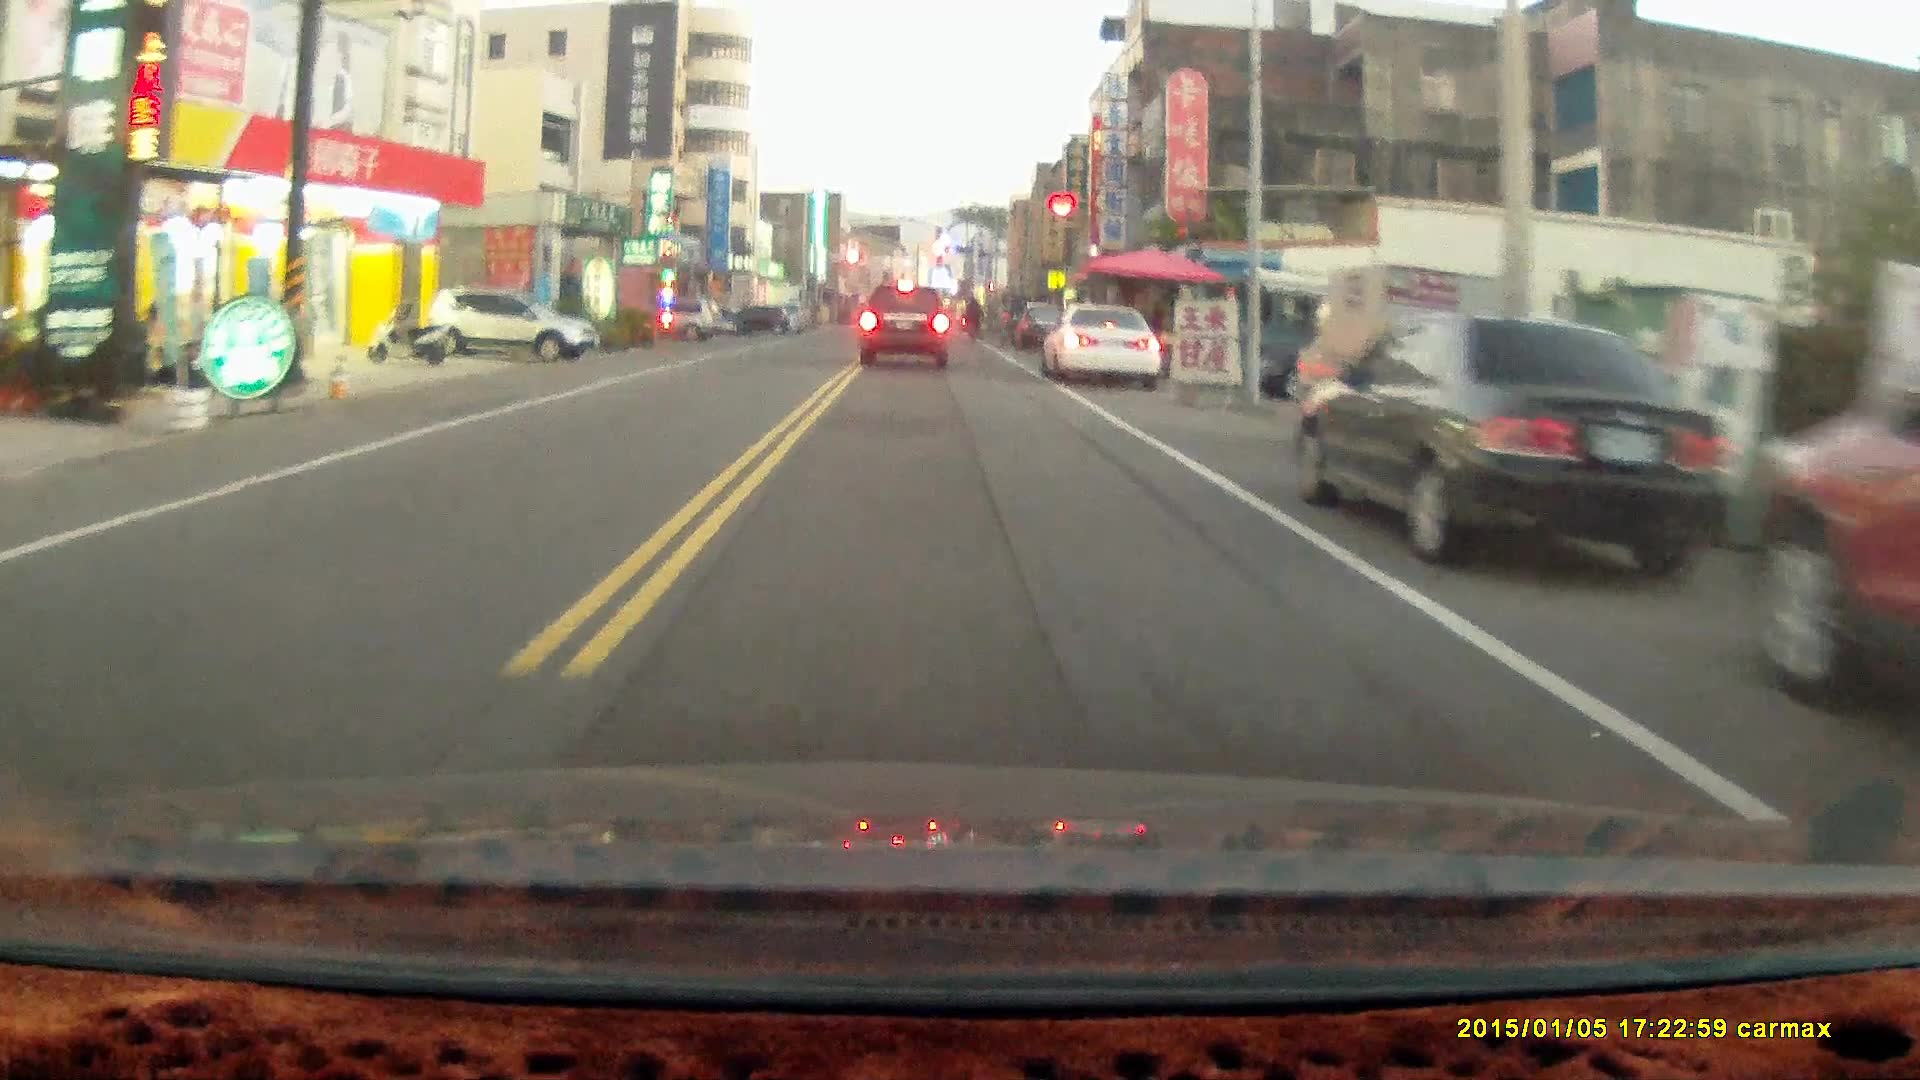vehicle: (1288, 313, 1741, 585), (1743, 319, 1920, 737), (1294, 255, 1509, 431), (425, 286, 597, 361), (1038, 302, 1164, 392), (858, 276, 949, 367)
